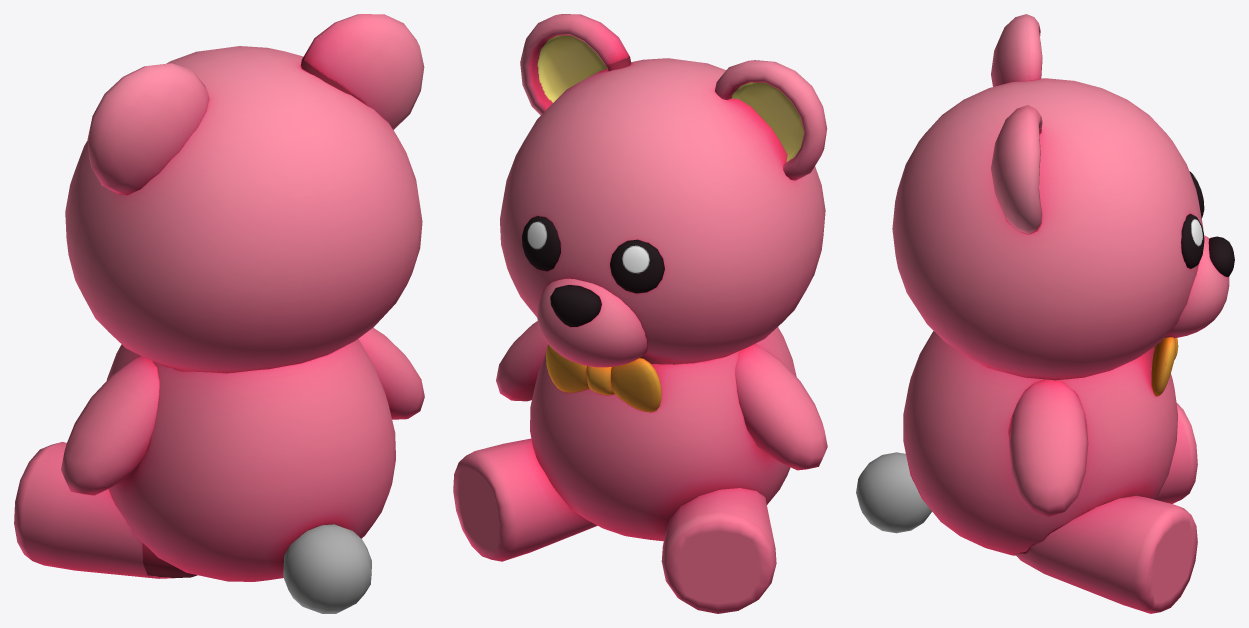
The model's file is teddy1.fbx.
3 renders of one model, left to right at view 1: azimuth 30°, elevation 25°; view 2: azimuth 150°, elevation 25°; view 3: azimuth 270°, elevation 25°, orthographic. The views are drawn at different scales.
Visible parts, largest first — view 1: teddy; view 2: teddy; view 3: teddy.
Part boxes in pixels (x1,y1,x2,y2): teddy: (14, 14, 424, 613); teddy: (453, 14, 827, 613); teddy: (856, 14, 1234, 613).
Bounding box in the file's own units: 73.67 × 108 × 75.7.
Materials: 1 (1 with a texture image).
